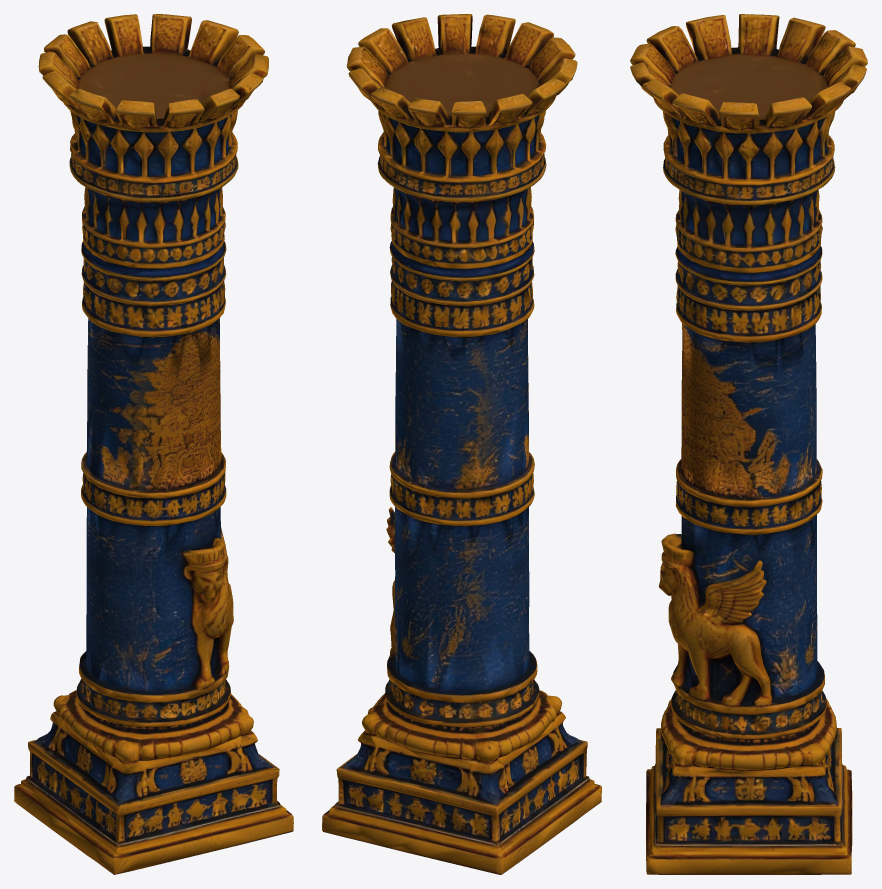
File: اعمدة.glb
3 renders of one model, left to right at view 1: azimuth 30°, elevation 25°; view 2: azimuth 150°, elevation 25°; view 3: azimuth 270°, elevation 25°, orthographic.
Parts seen in each view (by area): view 1: world; view 2: world; view 3: world.
Boxes of the visible parts, x1,y1,x2,y2 form: world: (14, 14, 293, 874); world: (322, 14, 601, 874); world: (630, 14, 867, 874).
Size of the model in its own units: 0.2739 by 0.9998 by 0.2792.
1 material, 1 textured.
